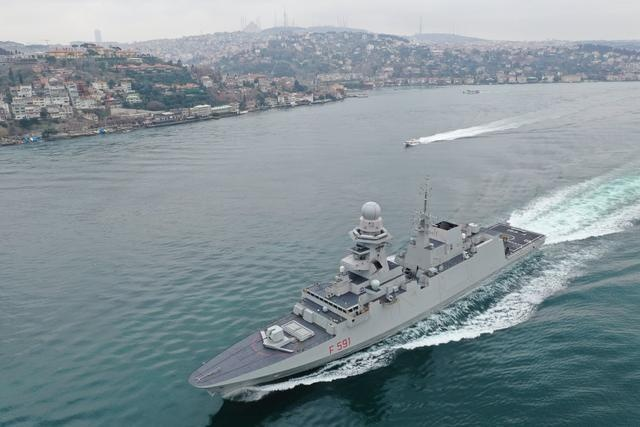warship: (188, 172, 551, 400)
